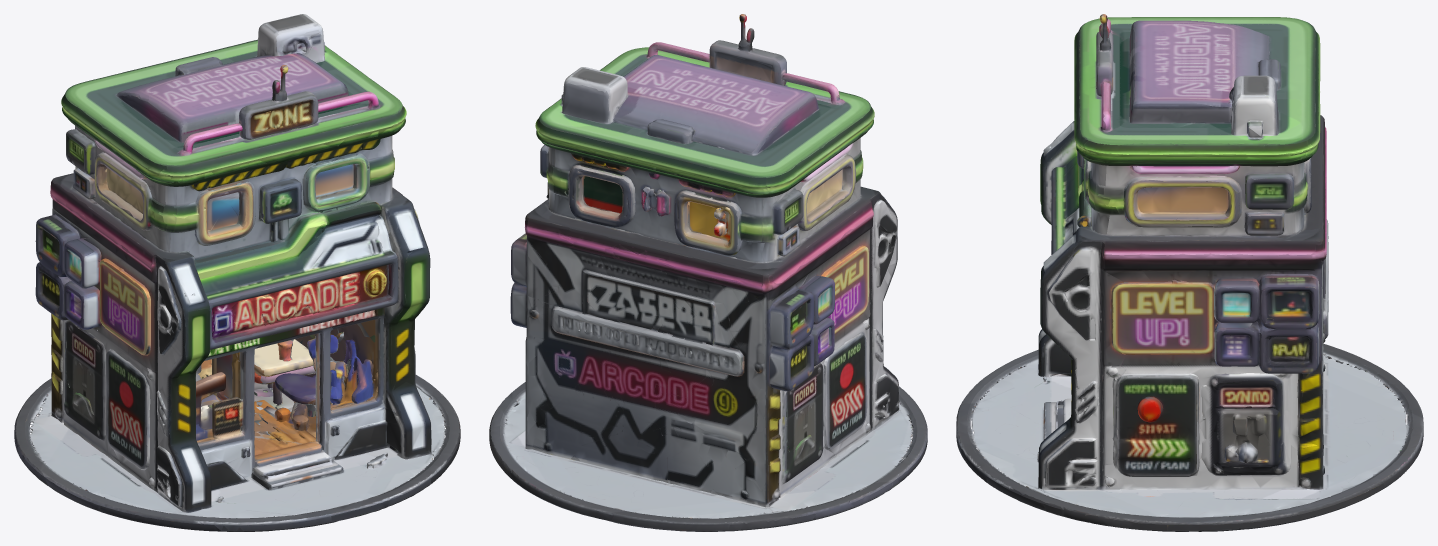
Rendered from u_bld_arcade.glb.
3 views of the same model, side by side, from view 1: azimuth 30°, elevation 25°; view 2: azimuth 150°, elevation 25°; view 3: azimuth 270°, elevation 25° (orthographic). The views are drawn at different scales.
Parts seen in each view (by area): view 1: geometry_0; view 2: geometry_0; view 3: geometry_0.
Part boxes in pixels (x1=…): geometry_0: x1=14, y1=14, x2=460, y2=531; geometry_0: x1=489, y1=14, x2=927, y2=531; geometry_0: x1=956, y1=14, x2=1423, y2=531.
Bounding box in the file's own units: 0.4511 × 0.45 × 0.4513.
1 material, 1 textured.
